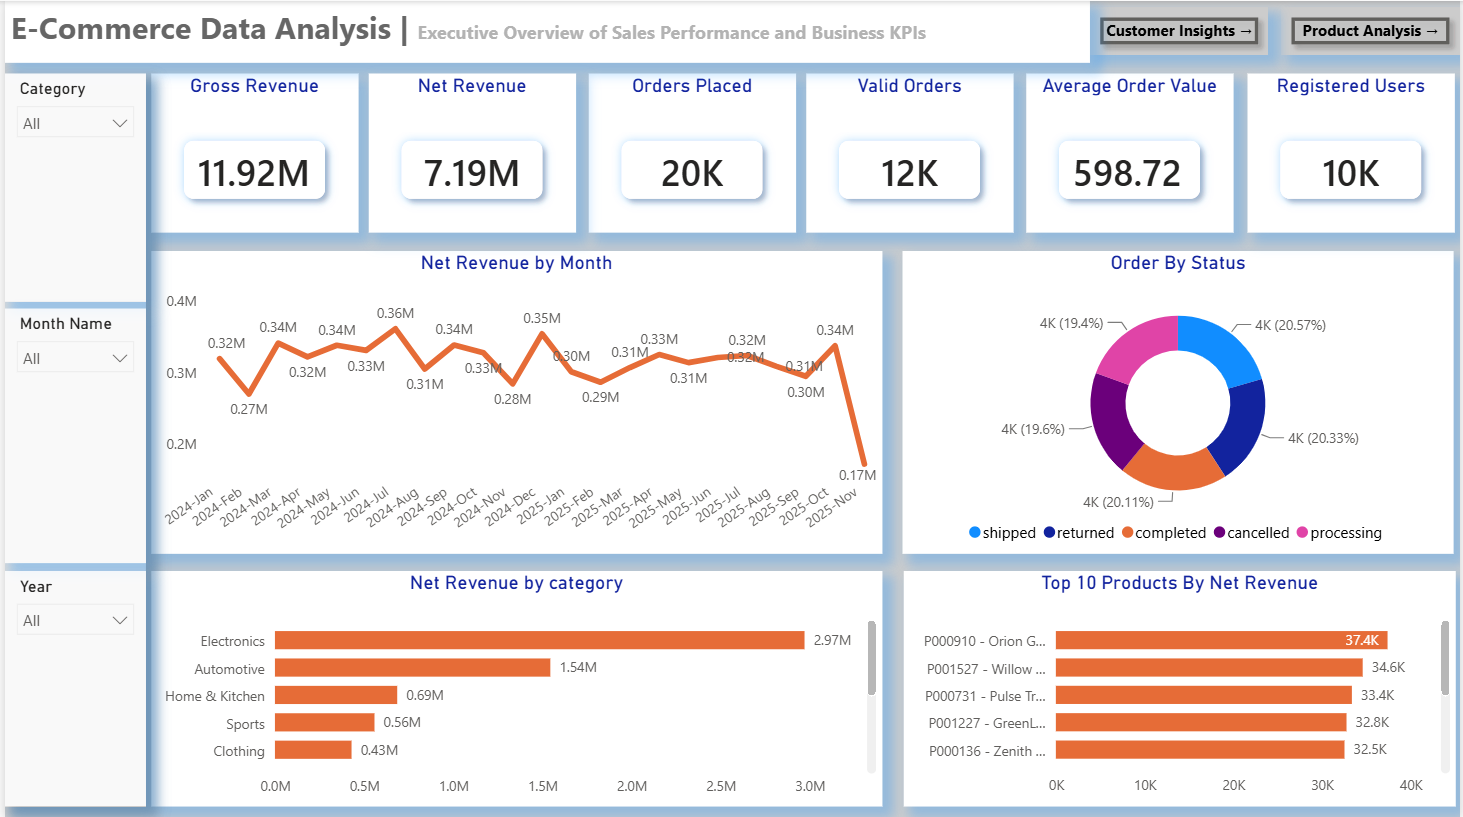

Layout of this report page (visuals, bound fields, positions):
{"tool":"powerbi","page":{"name":"Home","canvas":[1280,720],"ordinal":0},"visuals":[{"type":"cardVisual","title":"Gross Revenue","fields":{"Data":["Measure (3).Total Revenue"]},"box":[128.6,64.3,182,140],"z":0},{"type":"cardVisual","title":"Orders Placed","fields":{"Data":["Measure (3).Total Orders"]},"box":[513.1,64.3,182,140],"z":1000},{"type":"cardVisual","title":"Valid Orders","fields":{"Data":["orders.Valid Orders"]},"box":[704.8,64.3,182,140],"z":2000},{"type":"cardVisual","title":"Average Order Value","fields":{"Data":["Measure (3).Average Order Value"]},"box":[898.8,64.3,182,140],"z":3000},{"type":"lineChart","title":"Net Revenue by Month","fields":{"Category":["Calendar.Year Month"],"Y":["order_items.Net Revenue (Items)"]},"box":[128.6,220.2,642.9,266.7],"z":4000},{"type":"clusteredBarChart","title":"Net Revenue by category","fields":{"Category":["products.category"],"Y":["order_items.Net Revenue (Items)"]},"box":[128.6,501.2,642.9,207.1],"z":5000},{"type":"donutChart","title":"Order By Status","fields":{"Category":["orders.order_status"],"Y":["Measure (3).Total Orders"]},"box":[790,220.2,485,266.7],"z":6000},{"type":"clusteredBarChart","title":"Top 10 Products By Net Revenue","fields":{"Y":["order_items.Net Revenue (Items)"],"Category":["products.Product Label"]},"box":[790.5,501.2,485.7,207],"z":7000},{"type":"actionButton","box":[954.8,6,157,41.7],"z":8000},{"type":"actionButton","box":[1122.6,6,157,41.7],"z":9000},{"type":"textbox","box":[0,0,954.8,54.8],"z":10000},{"type":"cardVisual","title":"Net Revenue","fields":{"Data":["orders.Net Revenue"]},"box":[320.2,64.3,182,140],"z":11000},{"type":"cardVisual","title":"Registered Users","fields":{"Data":["Measure (3).Total Customers"]},"box":[1092.9,64.3,182,140],"z":12000},{"type":"shape","box":[0,64.3,123.8,644.1],"z":13000},{"type":"slicer","fields":{"Values":["products.category"]},"box":[0,64.3,123.8,201],"z":14000},{"type":"slicer","fields":{"Values":["Calendar.Month Name"]},"box":[0,270.2,123.8,224],"z":15000},{"type":"slicer","fields":{"Values":["Calendar.Year"]},"box":[0,501.2,123.8,207],"z":16000}]}

Visuals, with their boxes in screenshot pixels (x1, y1, x2, y2), scaled from the page's 1280x720 canvas onto the 1463x817 screenshot:
"Gross Revenue" cardVisual: Rect(147, 73, 355, 232)
"Orders Placed" cardVisual: Rect(586, 73, 794, 232)
"Valid Orders" cardVisual: Rect(806, 73, 1014, 232)
"Average Order Value" cardVisual: Rect(1027, 73, 1235, 232)
"Net Revenue by Month" lineChart: Rect(147, 250, 882, 552)
"Net Revenue by category" clusteredBarChart: Rect(147, 569, 882, 804)
"Order By Status" donutChart: Rect(903, 250, 1457, 552)
"Top 10 Products By Net Revenue" clusteredBarChart: Rect(904, 569, 1459, 804)
actionButton: Rect(1091, 7, 1271, 54)
actionButton: Rect(1283, 7, 1462, 54)
textbox: Rect(0, 0, 1091, 62)
"Net Revenue" cardVisual: Rect(366, 73, 574, 232)
"Registered Users" cardVisual: Rect(1249, 73, 1457, 232)
shape: Rect(0, 73, 141, 804)
slicer - products.category: Rect(0, 73, 141, 301)
slicer - Calendar.Month Name: Rect(0, 307, 141, 561)
slicer - Calendar.Year: Rect(0, 569, 141, 804)
